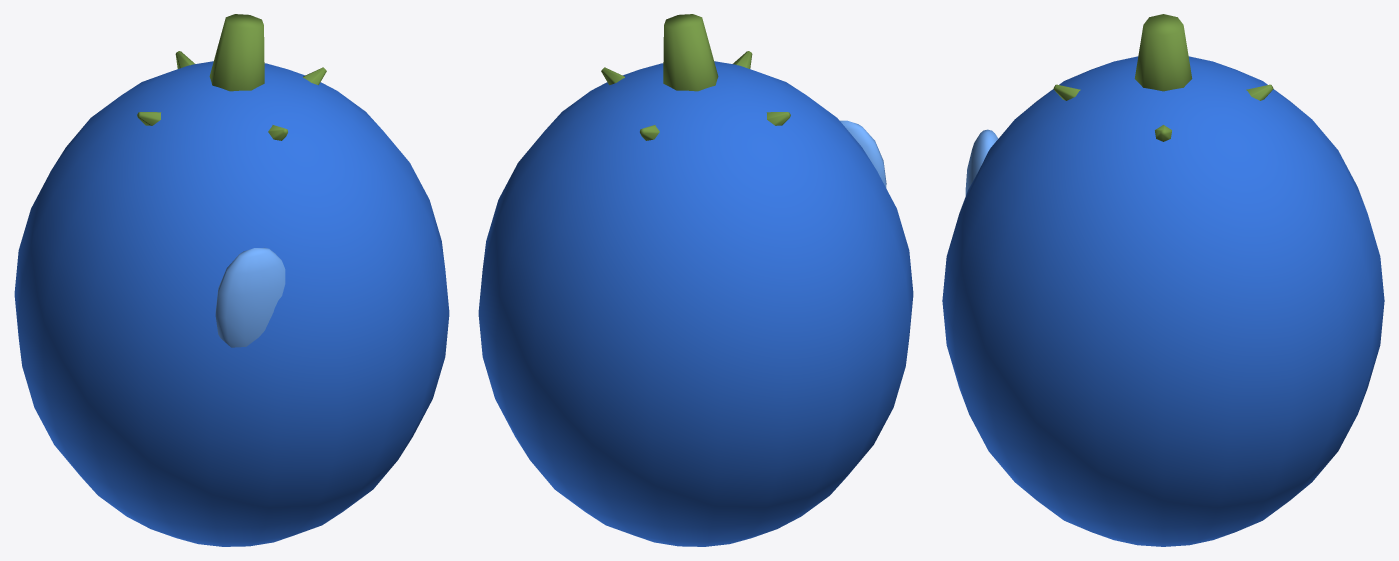
Rendered from Fruit_Blue.fbx.
The picture shows the model from 3 angles, left to right: view 1: azimuth 30°, elevation 25°; view 2: azimuth 150°, elevation 25°; view 3: azimuth 270°, elevation 25°; orthographic projection.
Parts seen in each view (by area): view 1: Fruit_Body.001, Fruit_Highlight.001, Fruit_Stem.001; view 2: Fruit_Body.001, Fruit_Stem.001, Fruit_Highlight.001; view 3: Fruit_Body.001, Fruit_Stem.001, Fruit_Highlight.001.
Boxes of the visible parts, left/top/right/bottom form: Fruit_Body.001: left=14, top=61, right=449, bottom=546; Fruit_Highlight.001: left=215, top=247, right=285, bottom=347; Fruit_Stem.001: left=209, top=14, right=264, bottom=91; Fruit_Body.001: left=478, top=61, right=913, bottom=546; Fruit_Stem.001: left=663, top=14, right=718, bottom=91; Fruit_Highlight.001: left=840, top=120, right=886, bottom=187; Fruit_Body.001: left=942, top=56, right=1384, bottom=546; Fruit_Stem.001: left=1134, top=14, right=1192, bottom=91; Fruit_Highlight.001: left=965, top=129, right=998, bottom=195.
Bounding box in the file's own units: 44 × 56.27 × 44.
